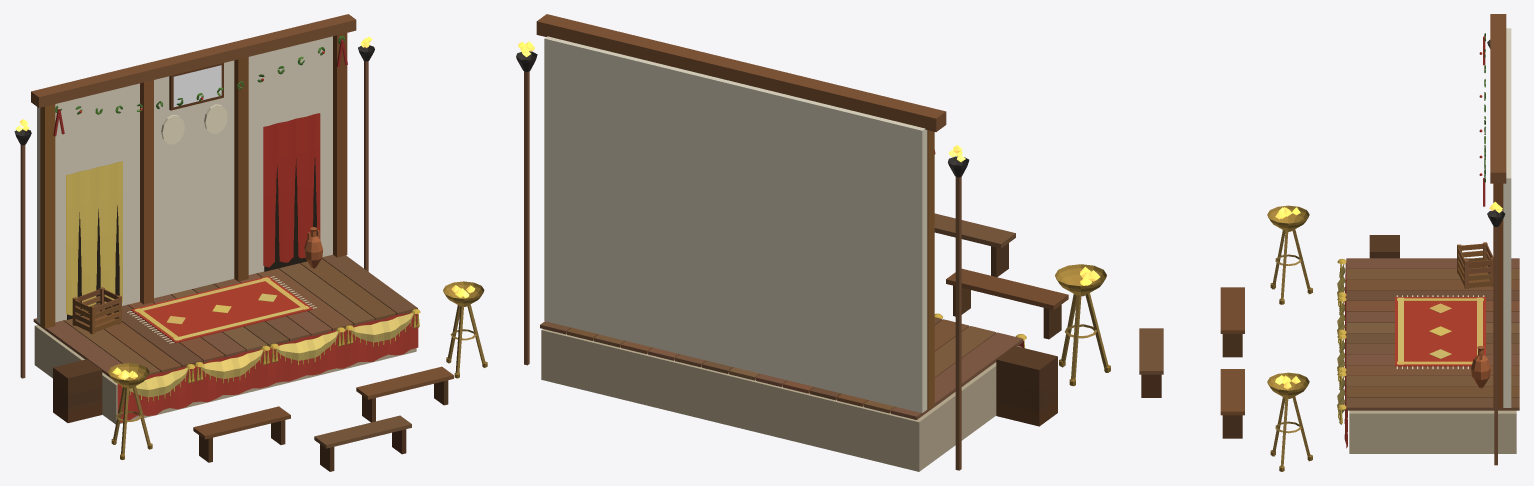
The model's file is mon_mimes.glb.
3 views of the same model, side by side, from view 1: azimuth 30°, elevation 25°; view 2: azimuth 150°, elevation 25°; view 3: azimuth 270°, elevation 25° (orthographic). The views are drawn at different scales.
Parts seen in each view (by area): view 1: House, Embers; view 2: House; view 3: House, Embers.
Part boxes in pixels (x1=…): House: x1=14, y1=14, x2=487, y2=471; Embers: x1=15, y1=36, x2=475, y2=379; House: x1=516, y1=14, x2=1110, y2=471; House: x1=1139, y1=14, x2=1519, y2=471; Embers: x1=1275, y1=38, x2=1502, y2=389.
Bounding box in the file's own units: 4.39 × 3.11 × 3.75.
Materials: 6 (6 with a texture image).
